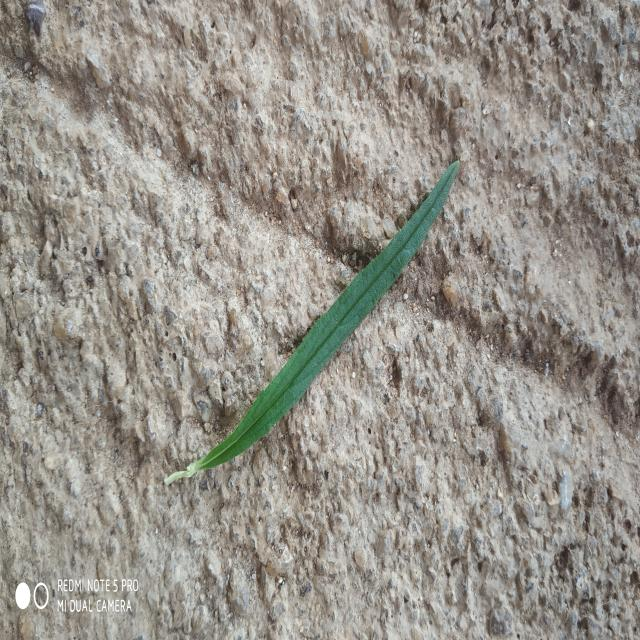thambe: (165, 162, 459, 484)
